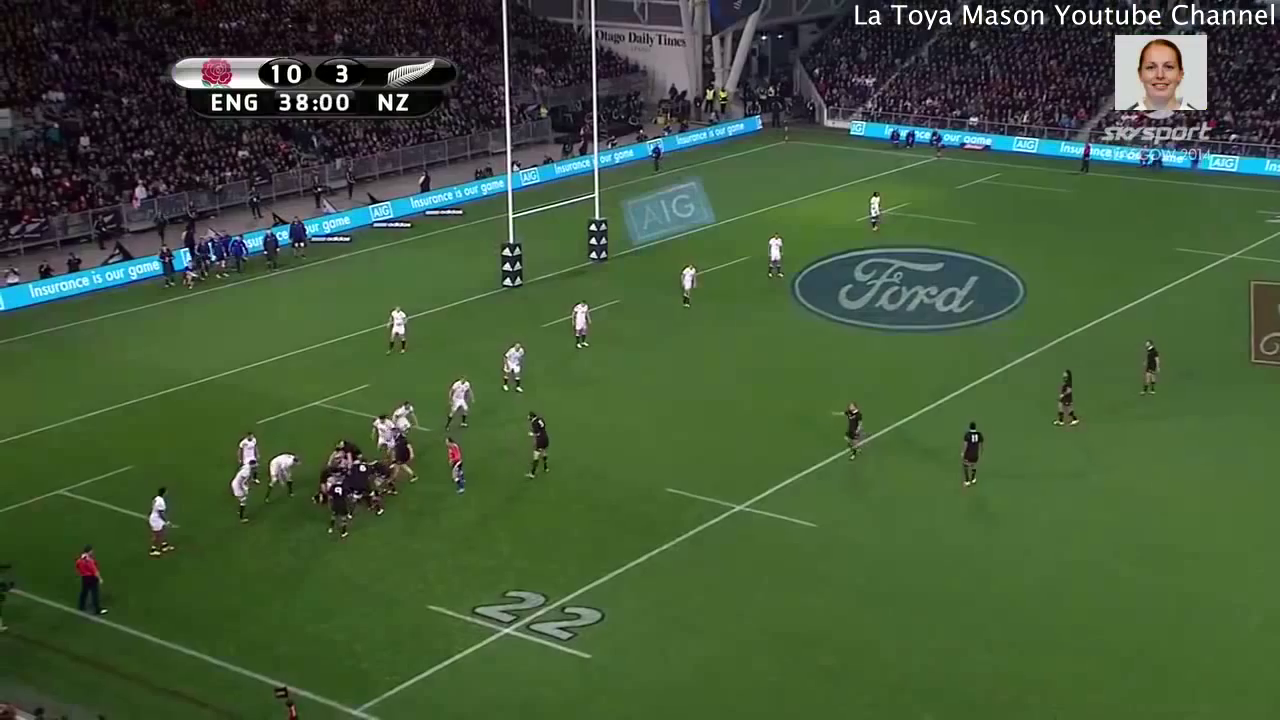player: (66, 540, 114, 624), (829, 397, 873, 472), (950, 416, 989, 497), (143, 473, 174, 565), (384, 425, 421, 497), (519, 403, 553, 480), (343, 456, 385, 518), (494, 336, 532, 403), (439, 373, 476, 440), (438, 429, 470, 502), (261, 450, 305, 502), (320, 475, 354, 542), (1051, 361, 1083, 432), (227, 454, 258, 527), (1136, 333, 1165, 404), (378, 300, 415, 355), (563, 296, 599, 352), (759, 228, 789, 288), (229, 424, 265, 474), (673, 259, 703, 315), (388, 398, 422, 441), (366, 408, 390, 455), (328, 437, 365, 465), (865, 185, 885, 236), (316, 459, 343, 496)
post: (493, 1, 620, 300)
